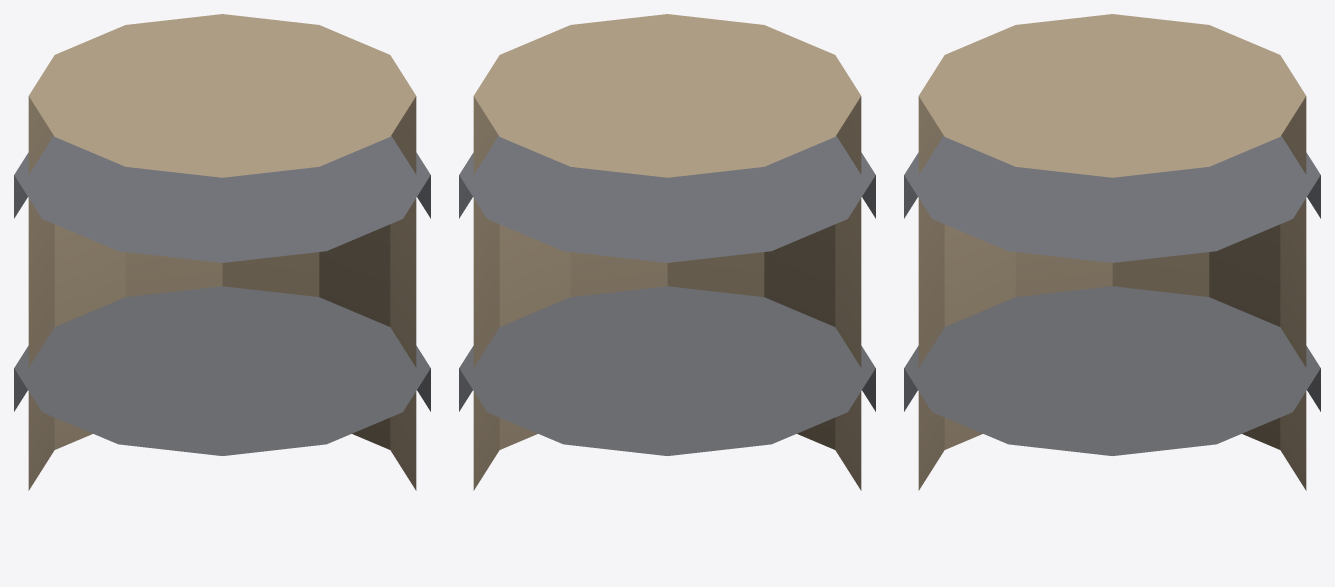
File: barrel.glb
The picture shows the model from 3 angles, left to right: view 1: azimuth 30°, elevation 25°; view 2: azimuth 150°, elevation 25°; view 3: azimuth 270°, elevation 25°; orthographic projection.
Visible parts, largest first — view 1: root; view 2: root; view 3: root.
Part boxes in pixels (x1=…): root: x1=14, y1=14, x2=430, y2=490; root: x1=459, y1=14, x2=875, y2=490; root: x1=904, y1=14, x2=1320, y2=490.
Size of the model in its own units: 0.86 by 0.9 by 0.86.
